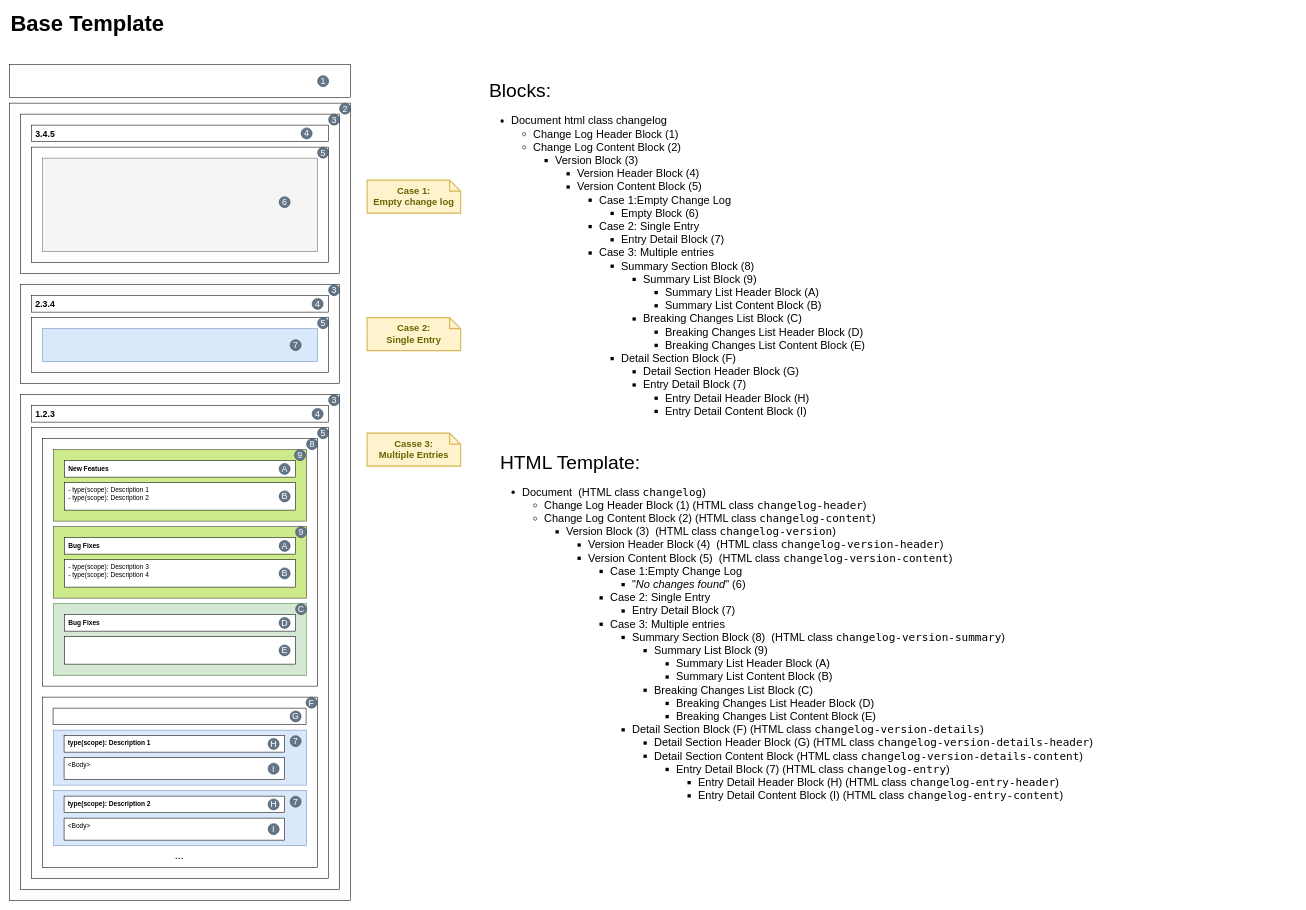
This 1306x910 diagram has some shape labels left out. Each missing label, with the box of its shape:
- type(scope): Description 1 - type(scope): Description 5: (64, 636, 296, 664)
Change Log: (9, 64, 351, 98)
Details: (53, 708, 306, 725)
No changes found.: (42, 158, 318, 252)
type(scope): Description 1 <Body>: (42, 328, 318, 362)
